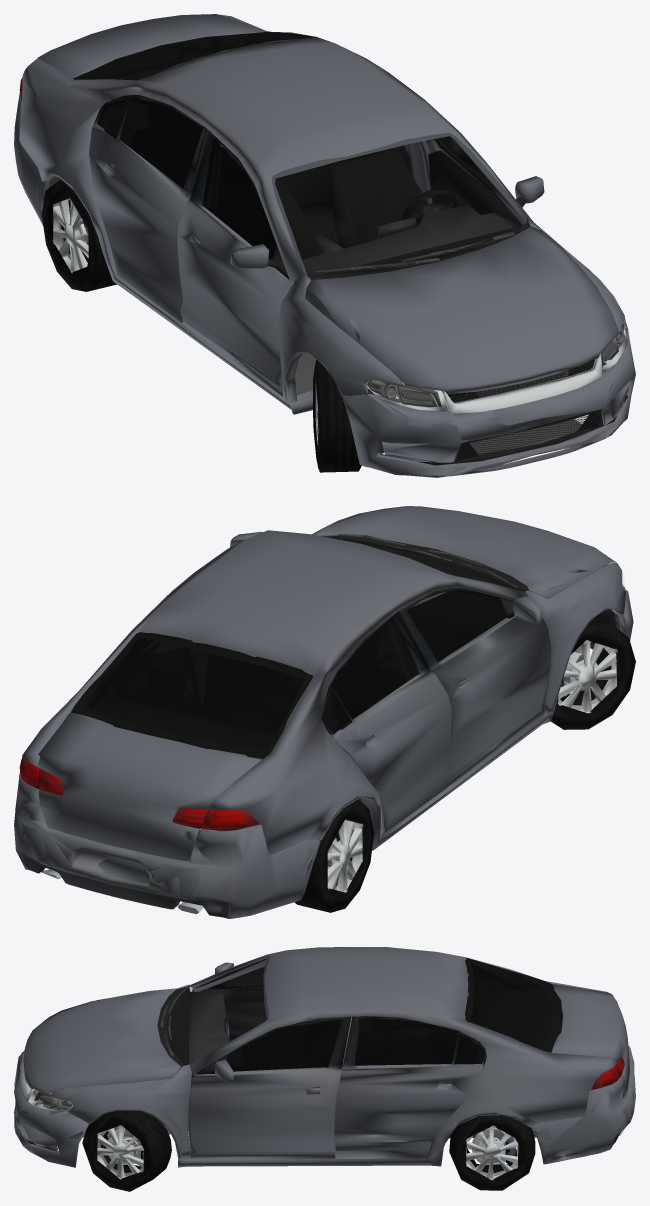
Rendered from sedan.glb.
The picture shows the model from 3 angles, top to bottom: view 1: azimuth 30°, elevation 25°; view 2: azimuth 150°, elevation 25°; view 3: azimuth 270°, elevation 25°; orthographic projection. The views are drawn at different scales.
Parts seen in each view (by area): view 1: sedan-unibody_65, hood_60, windshield_102, bumper-front_8, door-front-r_17, door-rear-r_23, fender-front-r_33, front-seat-backrest_39, trunk_99, dashboard_13, door-rear-window-glass-r_27, door-front-window-glass-r_19 (+21 smaller); view 2: sedan-unibody_65, trunk_99, glass-rear_42, bumper-rear_10, door-front-r_17, door-rear-r_23, hood_60, fender-front-r_33, door-rear-window-glass-r_27, door-front-window-glass-r_19, generic-tire-low.001_125, generic-tire-low.003_133 (+7 smaller); view 3: sedan-unibody_65, door-front-l_16, door-rear-l_22, hood_60, windshield_102, glass-rear_42, fender-front-l_32, bumper-rear_10, trunk_99, door-rear-window-glass-l_26, door-front-window-glass-l_18, generic-tire-low_121 (+11 smaller).
Boxes of the visible parts, bbox=[...] form: sedan-unibody_65: bbox=[19, 14, 533, 414]; hood_60: bbox=[305, 226, 618, 393]; windshield_102: bbox=[272, 133, 527, 275]; bumper-front_8: bbox=[342, 328, 635, 477]; door-front-r_17: bbox=[178, 130, 294, 396]; door-rear-r_23: bbox=[89, 95, 208, 322]; fender-front-r_33: bbox=[278, 272, 404, 403]; front-seat-backrest_39: bbox=[329, 149, 427, 248]; trunk_99: bbox=[38, 14, 264, 78]; dashboard_13: bbox=[293, 205, 522, 284]; door-rear-window-glass-r_27: bbox=[119, 96, 203, 188]; door-front-window-glass-r_19: bbox=[202, 139, 276, 258]; sedan-unibody_65: bbox=[20, 530, 553, 854]; trunk_99: bbox=[37, 712, 262, 860]; glass-rear_42: bbox=[71, 632, 313, 758]; bumper-rear_10: bbox=[14, 772, 320, 918]; door-front-r_17: bbox=[398, 588, 551, 787]; door-rear-r_23: bbox=[321, 611, 451, 832]; hood_60: bbox=[312, 506, 616, 598]; fender-front-r_33: bbox=[524, 562, 625, 715]; door-rear-window-glass-r_27: bbox=[331, 617, 419, 719]; door-front-window-glass-r_19: bbox=[407, 591, 505, 662]; generic-tire-low.001_125: bbox=[551, 615, 635, 729]; generic-tire-low.003_133: bbox=[294, 799, 373, 912]; sedan-unibody_65: bbox=[178, 947, 621, 1167]; door-front-l_16: bbox=[188, 1017, 351, 1159]; door-rear-l_22: bbox=[334, 1016, 486, 1158]; hood_60: bbox=[22, 988, 180, 1094]; windshield_102: bbox=[166, 956, 269, 1064]; glass-rear_42: bbox=[465, 958, 563, 1052]; fender-front-l_32: bbox=[48, 1064, 191, 1159]; bumper-rear_10: bbox=[531, 1045, 635, 1164]; trunk_99: bbox=[551, 984, 629, 1094]; door-rear-window-glass-l_26: bbox=[354, 1018, 458, 1065]; door-front-window-glass-l_18: bbox=[226, 1019, 342, 1071]; generic-tire-low_121: bbox=[82, 1110, 171, 1191].
Size of the model in its own units: 2.14 by 1.49 by 4.97.
Materials: 21 (7 with a texture image).
